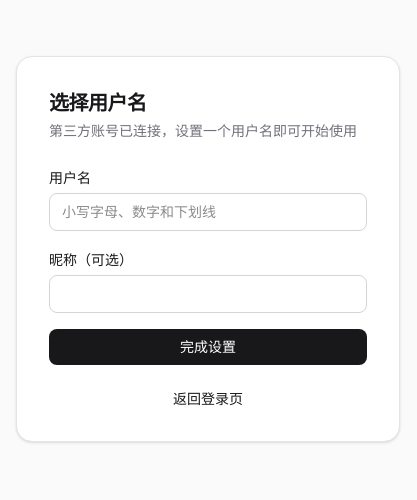
Test: OAuthUsernameView › shows a taken username as a field problem and keeps the limited token
Step 1. Type "taken_name" into the field with test id "username-input" → {"x": 208, "y": 212}, box [49,193,367,231]
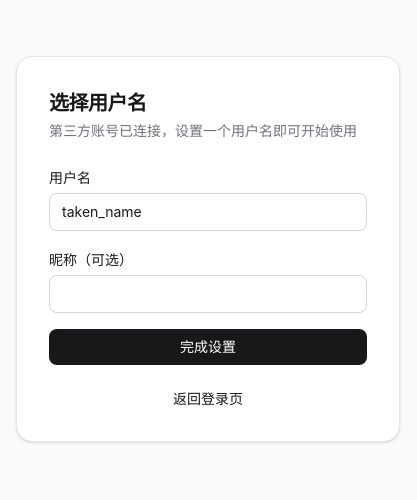
Step 2. Submit the form, box [49,165,367,365]
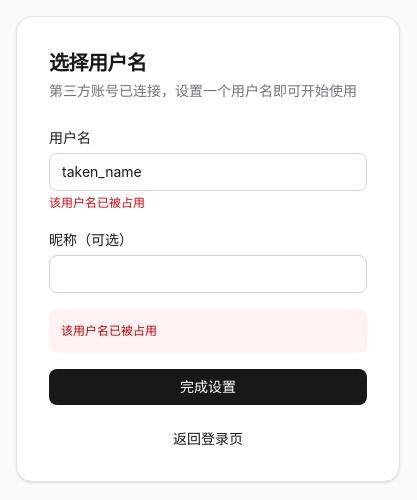
Check: the text with test id "username-error" reads "该用户名已被占用", box [49,195,145,210]
